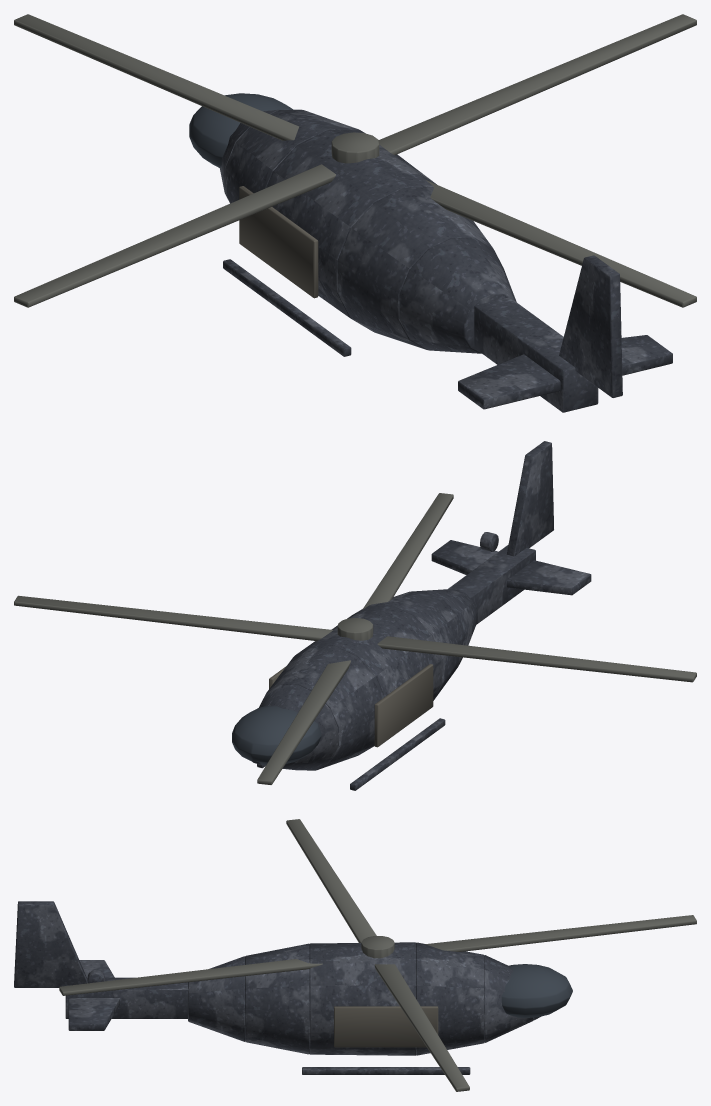
File: hel_e2_us_transport_LOD0.glb
3 views of the same model, one above another, from view 1: azimuth 30°, elevation 25°; view 2: azimuth 150°, elevation 25°; view 3: azimuth 270°, elevation 25° (orthographic). The views are drawn at different scales.
Visible parts, largest first — view 1: hel_e2_us_transport_LOD0_body, hel_e2_us_transport_LOD0_gun, hel_e2_us_transport_LOD0_deck, hel_e2_us_transport_LOD0_glass; view 2: hel_e2_us_transport_LOD0_body, hel_e2_us_transport_LOD0_gun, hel_e2_us_transport_LOD0_glass, hel_e2_us_transport_LOD0_deck; view 3: hel_e2_us_transport_LOD0_body, hel_e2_us_transport_LOD0_gun, hel_e2_us_transport_LOD0_deck, hel_e2_us_transport_LOD0_glass.
Boxes of the visible parts, <box> form: hel_e2_us_transport_LOD0_body: <box>219,109,672,412</box>; hel_e2_us_transport_LOD0_gun: <box>14,14,696,307</box>; hel_e2_us_transport_LOD0_deck: <box>239,186,318,298</box>; hel_e2_us_transport_LOD0_glass: <box>189,93,292,167</box>; hel_e2_us_transport_LOD0_body: <box>251,441,591,790</box>; hel_e2_us_transport_LOD0_gun: <box>14,493,696,784</box>; hel_e2_us_transport_LOD0_glass: <box>232,706,321,764</box>; hel_e2_us_transport_LOD0_deck: <box>269,664,433,747</box>; hel_e2_us_transport_LOD0_body: <box>14,901,540,1074</box>; hel_e2_us_transport_LOD0_gun: <box>59,819,696,1091</box>; hel_e2_us_transport_LOD0_deck: <box>334,1006,438,1047</box>; hel_e2_us_transport_LOD0_glass: <box>501,964,572,1017</box>.
Bounding box in the file's own units: 15.92 × 4.13 × 17.05.
Materials: 4 (1 with a texture image).
